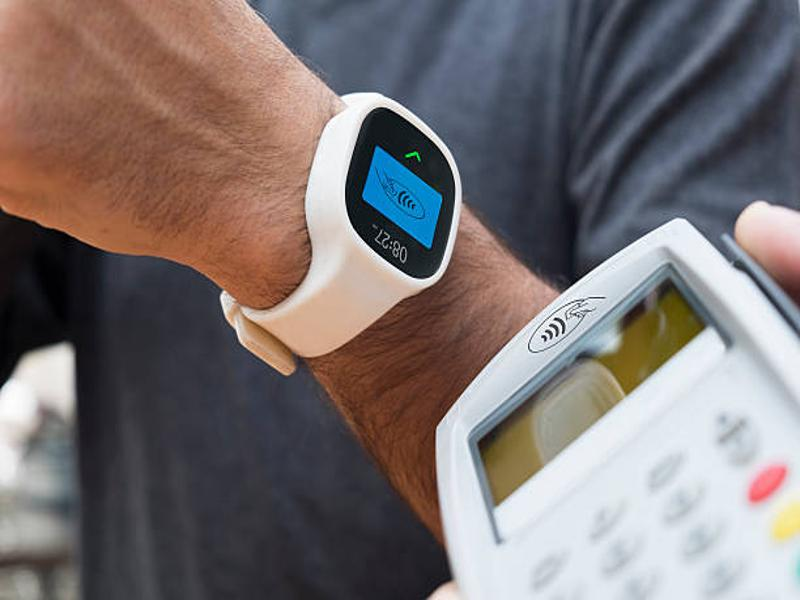watch: (219, 87, 463, 376)
